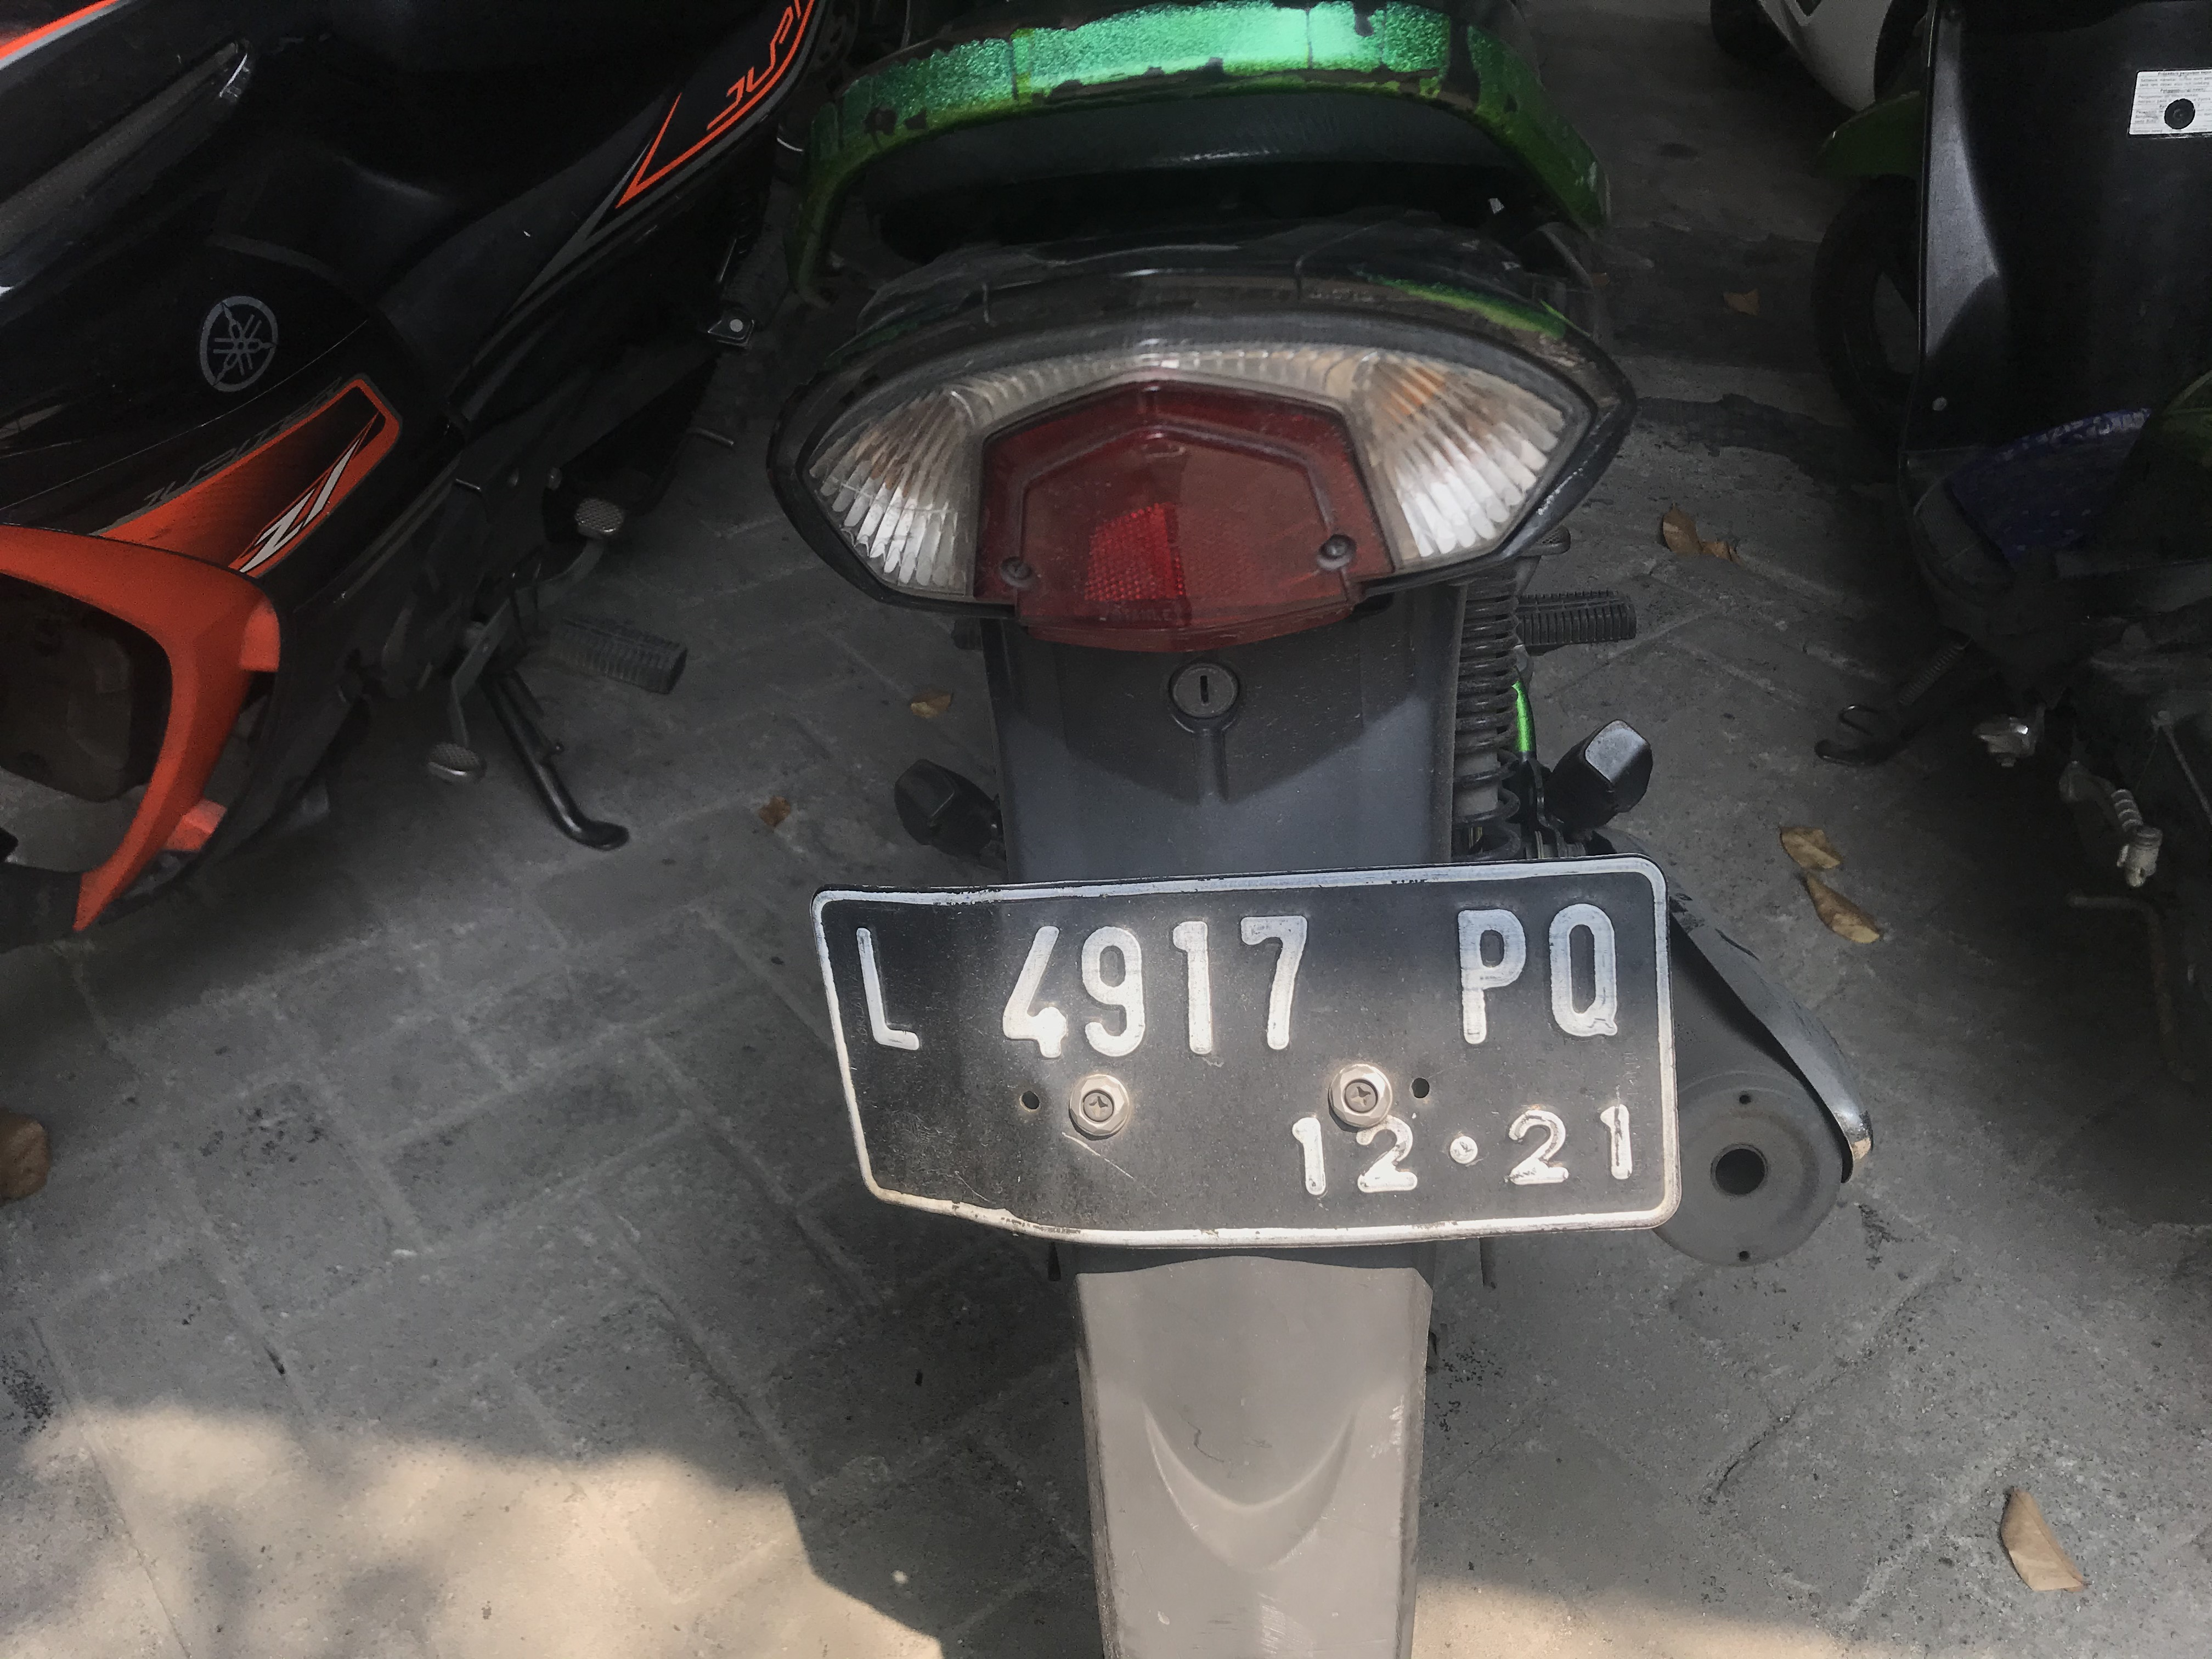plate: (817, 861, 1674, 1214)
